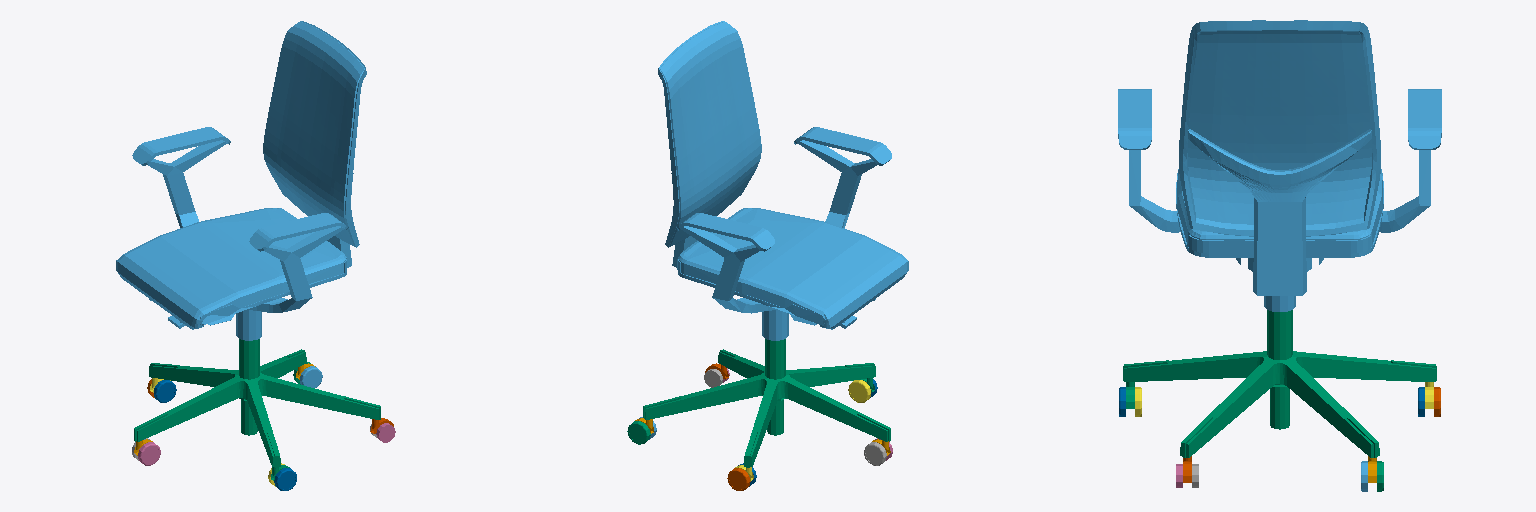
The robot description file, URDF, robot "partnet_2621666fa21488a4e922ceea1248b9b0":
<?xml version="1.0" encoding="utf-8"?>
<robot name="partnet_2621666fa21488a4e922ceea1248b9b0">
 <link name="base"/>
 <link name="link_0">
  <visual name="lever-42">
   <origin xyz="0 0.2095972358455948 -0.33022376647684676"/>
   <geometry>
    <mesh filename="textured_objs/original-9.obj"/>
   </geometry>
  </visual>
  <collision>
   <geometry>
    <mesh filename="cvx_objs/link_0.obj"/>
   </geometry>
  </collision>
 </link>
 <joint name="joint_0" type="revolute">
  <origin xyz="-0.00041881732650614 -0.2095972358455948 0.28426075927392724"/>
  <axis xyz="1 0 0"/>
  <child link="link_0"/>
  <parent link="link_16"/>
  <limit lower="0.0" upper="0.3581415625092364"/>
 </joint>
 <link name="link_1">
  <visual name="caster_yoke-35">
   <origin xyz="-0.5073895804539346 0 -0.21076041954606542"/>
   <geometry>
    <mesh filename="textured_objs/original-33.obj"/>
   </geometry>
  </visual>
  <collision>
   <geometry>
    <mesh filename="cvx_objs/link_1.obj"/>
   </geometry>
  </collision>
 </link>
 <joint name="joint_1" type="continuous">
  <origin xyz="0.5073895804539346 0 0.21076041954606542"/>
  <axis xyz="0 1 0"/>
  <child link="link_1"/>
  <parent link="link_17"/>
 </joint>
 <link name="link_2">
  <visual name="wheel-36">
   <origin xyz="0 0.7980015 -0.1769515"/>
   <geometry>
    <mesh filename="textured_objs/original-31.obj"/>
   </geometry>
  </visual>
  <collision>
   <geometry>
    <mesh filename="cvx_objs/link_2.obj"/>
   </geometry>
  </collision>
 </link>
 <joint name="joint_2" type="continuous">
  <origin xyz="-0.5073895804539346 -0.7980015 -0.03380891954606541"/>
  <axis xyz="1 0 0"/>
  <child link="link_2"/>
  <parent link="link_1"/>
 </joint>
 <link name="link_3">
  <visual name="wheel-37">
   <origin xyz="0 0.7980015 -0.1769515"/>
   <geometry>
    <mesh filename="textured_objs/original-32.obj"/>
   </geometry>
  </visual>
  <collision>
   <geometry>
    <mesh filename="cvx_objs/link_3.obj"/>
   </geometry>
  </collision>
 </link>
 <joint name="joint_3" type="continuous">
  <origin xyz="-0.5073895804539346 -0.7980015 -0.03380891954606541"/>
  <axis xyz="1 0 0"/>
  <child link="link_3"/>
  <parent link="link_1"/>
 </joint>
 <link name="link_4">
  <visual name="caster_yoke-32">
   <origin xyz="-0.3138163979893218 0 0.38521350000000004"/>
   <geometry>
    <mesh filename="textured_objs/original-30.obj"/>
   </geometry>
  </visual>
  <collision>
   <geometry>
    <mesh filename="cvx_objs/link_4.obj"/>
   </geometry>
  </collision>
 </link>
 <joint name="joint_4" type="continuous">
  <origin xyz="0.3138163979893218 0 -0.38521350000000004"/>
  <axis xyz="0 1 0"/>
  <child link="link_4"/>
  <parent link="link_17"/>
 </joint>
 <link name="link_5">
  <visual name="wheel-33">
   <origin xyz="0 0.7980015 0.419022"/>
   <geometry>
    <mesh filename="textured_objs/original-29.obj"/>
   </geometry>
  </visual>
  <collision>
   <geometry>
    <mesh filename="cvx_objs/link_5.obj"/>
   </geometry>
  </collision>
 </link>
 <joint name="joint_5" type="continuous">
  <origin xyz="-0.3138163979893218 -0.7980015 -0.033808499999999964"/>
  <axis xyz="-1 0 0"/>
  <child link="link_5"/>
  <parent link="link_4"/>
 </joint>
 <link name="link_6">
  <visual name="wheel-34">
   <origin xyz="0 0.7980015 0.419022"/>
   <geometry>
    <mesh filename="textured_objs/original-28.obj"/>
   </geometry>
  </visual>
  <collision>
   <geometry>
    <mesh filename="cvx_objs/link_6.obj"/>
   </geometry>
  </collision>
 </link>
 <joint name="joint_6" type="continuous">
  <origin xyz="-0.3138163979893218 -0.7980015 -0.033808499999999964"/>
  <axis xyz="-1 0 0"/>
  <child link="link_6"/>
  <parent link="link_4"/>
 </joint>
 <link name="link_7">
  <visual name="caster_yoke-29">
   <origin xyz="0.312821 0 0.3853705"/>
   <geometry>
    <mesh filename="textured_objs/original-27.obj"/>
   </geometry>
  </visual>
  <collision>
   <geometry>
    <mesh filename="cvx_objs/link_7.obj"/>
   </geometry>
  </collision>
 </link>
 <joint name="joint_7" type="continuous">
  <origin xyz="-0.312821 0 -0.3853705"/>
  <axis xyz="0 1 0"/>
  <child link="link_7"/>
  <parent link="link_17"/>
 </joint>
 <link name="link_8">
  <visual name="wheel-30">
   <origin xyz="0 0.7980015 0.4191795"/>
   <geometry>
    <mesh filename="textured_objs/original-26.obj"/>
   </geometry>
  </visual>
  <collision>
   <geometry>
    <mesh filename="cvx_objs/link_8.obj"/>
   </geometry>
  </collision>
 </link>
 <joint name="joint_8" type="continuous">
  <origin xyz="0.312821 -0.7980015 -0.03380899999999998"/>
  <axis xyz="-1 0 0"/>
  <child link="link_8"/>
  <parent link="link_7"/>
 </joint>
 <link name="link_9">
  <visual name="wheel-31">
   <origin xyz="0 0.7980015 0.4191795"/>
   <geometry>
    <mesh filename="textured_objs/original-25.obj"/>
   </geometry>
  </visual>
  <collision>
   <geometry>
    <mesh filename="cvx_objs/link_9.obj"/>
   </geometry>
  </collision>
 </link>
 <joint name="joint_9" type="continuous">
  <origin xyz="0.312821 -0.7980015 -0.03380899999999998"/>
  <axis xyz="-1 0 0"/>
  <child link="link_9"/>
  <parent link="link_7"/>
 </joint>
 <link name="link_10">
  <visual name="caster_yoke-26">
   <origin xyz="0.5065514999999999 0 -0.210603"/>
   <geometry>
    <mesh filename="textured_objs/original-24.obj"/>
   </geometry>
  </visual>
  <collision>
   <geometry>
    <mesh filename="cvx_objs/link_10.obj"/>
   </geometry>
  </collision>
 </link>
 <joint name="joint_10" type="continuous">
  <origin xyz="-0.5065514999999999 0 0.210603"/>
  <axis xyz="0 1 0"/>
  <child link="link_10"/>
  <parent link="link_17"/>
 </joint>
 <link name="link_11">
  <visual name="wheel-27">
   <origin xyz="0 0.7980011339793448 -0.1767945"/>
   <geometry>
    <mesh filename="textured_objs/original-23.obj"/>
   </geometry>
  </visual>
  <collision>
   <geometry>
    <mesh filename="cvx_objs/link_11.obj"/>
   </geometry>
  </collision>
 </link>
 <joint name="joint_11" type="continuous">
  <origin xyz="0.5065514999999999 -0.7980011339793448 -0.03380850000000002"/>
  <axis xyz="-1 0 0"/>
  <child link="link_11"/>
  <parent link="link_10"/>
 </joint>
 <link name="link_12">
  <visual name="wheel-28">
   <origin xyz="0 0.7980011339793448 -0.1767945"/>
   <geometry>
    <mesh filename="textured_objs/original-22.obj"/>
   </geometry>
  </visual>
  <collision>
   <geometry>
    <mesh filename="cvx_objs/link_12.obj"/>
   </geometry>
  </collision>
 </link>
 <joint name="joint_12" type="continuous">
  <origin xyz="0.5065514999999999 -0.7980011339793448 -0.03380850000000002"/>
  <axis xyz="-1 0 0"/>
  <child link="link_12"/>
  <parent link="link_10"/>
 </joint>
 <link name="link_13">
  <visual name="wheel-23">
   <origin xyz="0 0.788664212074202 -0.540282844889626"/>
   <geometry>
    <mesh filename="textured_objs/original-20.obj"/>
   </geometry>
  </visual>
  <collision>
   <geometry>
    <mesh filename="cvx_objs/link_13.obj"/>
   </geometry>
  </collision>
 </link>
 <joint name="joint_13" type="continuous">
  <origin xyz="-0.0002616099016787437 -0.788664212074202 -0.03875462566379584"/>
  <axis xyz="1 0 0"/>
  <child link="link_13"/>
  <parent link="link_15"/>
 </joint>
 <link name="link_14">
  <visual name="wheel-24">
   <origin xyz="0 0.7980014203437283 -0.5452290000000001"/>
   <geometry>
    <mesh filename="textured_objs/original-19.obj"/>
   </geometry>
  </visual>
  <collision>
   <geometry>
    <mesh filename="cvx_objs/link_14.obj"/>
   </geometry>
  </collision>
 </link>
 <joint name="joint_14" type="continuous">
  <origin xyz="-0.0002616099016787437 -0.7980014203437283 -0.03380847055342173"/>
  <axis xyz="1 0 0"/>
  <child link="link_14"/>
  <parent link="link_15"/>
 </joint>
 <link name="link_15">
  <visual name="caster_yoke-25">
   <origin xyz="-0.0002616099016787437 0 -0.5790374705534218"/>
   <geometry>
    <mesh filename="textured_objs/original-21.obj"/>
   </geometry>
  </visual>
  <collision>
   <geometry>
    <mesh filename="cvx_objs/link_15.obj"/>
   </geometry>
  </collision>
 </link>
 <joint name="joint_15" type="continuous">
  <origin xyz="0.0002616099016787437 0 0.5790374705534218"/>
  <axis xyz="0 1 0"/>
  <child link="link_15"/>
  <parent link="link_17"/>
 </joint>
 <link name="link_16">
  <visual name="back_support-57">
   <origin xyz="-0.00041881732650614 0 -0.04596300720291952"/>
   <geometry>
    <mesh filename="textured_objs/new-11.obj"/>
   </geometry>
  </visual>
  <visual name="back_connector-58">
   <origin xyz="-0.00041881732650614 0 -0.04596300720291952"/>
   <geometry>
    <mesh filename="textured_objs/new-10.obj"/>
   </geometry>
  </visual>
  <visual name="back_soft_surface-62">
   <origin xyz="-0.00041881732650614 0 -0.04596300720291952"/>
   <geometry>
    <mesh filename="textured_objs/original-14.obj"/>
   </geometry>
  </visual>
  <visual name="back_holistic_frame-61">
   <origin xyz="-0.00041881732650614 0 -0.04596300720291952"/>
   <geometry>
    <mesh filename="textured_objs/original-15.obj"/>
   </geometry>
  </visual>
  <visual name="arm_holistic_frame-55">
   <origin xyz="-0.00041881732650614 0 -0.04596300720291952"/>
   <geometry>
    <mesh filename="textured_objs/new-9.obj"/>
   </geometry>
  </visual>
  <visual name="arm_holistic_frame-55">
   <origin xyz="-0.00041881732650614 0 -0.04596300720291952"/>
   <geometry>
    <mesh filename="textured_objs/original-4.obj"/>
   </geometry>
  </visual>
  <visual name="arm_connector-63">
   <origin xyz="-0.00041881732650614 0 -0.04596300720291952"/>
   <geometry>
    <mesh filename="textured_objs/new-8.obj"/>
   </geometry>
  </visual>
  <visual name="arm_holistic_frame-54">
   <origin xyz="-0.00041881732650614 0 -0.04596300720291952"/>
   <geometry>
    <mesh filename="textured_objs/new-7.obj"/>
   </geometry>
  </visual>
  <visual name="arm_holistic_frame-54">
   <origin xyz="-0.00041881732650614 0 -0.04596300720291952"/>
   <geometry>
    <mesh filename="textured_objs/original-2.obj"/>
   </geometry>
  </visual>
  <visual name="arm_connector-66">
   <origin xyz="-0.00041881732650614 0 -0.04596300720291952"/>
   <geometry>
    <mesh filename="textured_objs/new-6.obj"/>
   </geometry>
  </visual>
  <visual name="seat_support-44">
   <origin xyz="-0.00041881732650614 0 -0.04596300720291952"/>
   <geometry>
    <mesh filename="textured_objs/original-11.obj"/>
   </geometry>
  </visual>
  <visual name="seat_soft_surface-50">
   <origin xyz="-0.00041881732650614 0 -0.04596300720291952"/>
   <geometry>
    <mesh filename="textured_objs/original-34.obj"/>
   </geometry>
  </visual>
  <visual name="seat_support-51">
   <origin xyz="-0.00041881732650614 0 -0.04596300720291952"/>
   <geometry>
    <mesh filename="textured_objs/original-35.obj"/>
   </geometry>
  </visual>
  <visual name="seat_support-64">
   <origin xyz="-0.00041881732650614 0 -0.04596300720291952"/>
   <geometry>
    <mesh filename="textured_objs/original-10.obj"/>
   </geometry>
  </visual>
  <visual name="central_support-7">
   <origin xyz="-0.00041881732650614 0 -0.04596300720291952"/>
   <geometry>
    <mesh filename="textured_objs/original-6.obj"/>
   </geometry>
  </visual>
  <visual name="mounting_plate-41">
   <origin xyz="-0.00041881732650614 0 -0.04596300720291952"/>
   <geometry>
    <mesh filename="textured_objs/original-18.obj"/>
   </geometry>
  </visual>
  <visual name="mounting_plate-41">
   <origin xyz="-0.00041881732650614 0 -0.04596300720291952"/>
   <geometry>
    <mesh filename="textured_objs/original-17.obj"/>
   </geometry>
  </visual>
  <visual name="mounting_plate-41">
   <origin xyz="-0.00041881732650614 0 -0.04596300720291952"/>
   <geometry>
    <mesh filename="textured_objs/original-16.obj"/>
   </geometry>
  </visual>
  <collision>
   <geometry>
    <mesh filename="cvx_objs/link_16.obj"/>
   </geometry>
  </collision>
 </link>
 <joint name="joint_16" type="continuous">
  <origin xyz="0.0 0 0.0"/>
  <axis xyz="0 -1 0"/>
  <child link="link_16"/>
  <parent link="link_16_helper"/>
 </joint>
 <link name="link_17">
  <visual name="central_support-8">
   <origin xyz="0 0 0"/>
   <geometry>
    <mesh filename="textured_objs/new-5.obj"/>
   </geometry>
  </visual>
  <visual name="central_support-9">
   <origin xyz="0 0 0"/>
   <geometry>
    <mesh filename="textured_objs/original-7.obj"/>
   </geometry>
  </visual>
  <visual name="leg-11">
   <origin xyz="0 0 0"/>
   <geometry>
    <mesh filename="textured_objs/new-4.obj"/>
   </geometry>
  </visual>
  <visual name="leg-12">
   <origin xyz="0 0 0"/>
   <geometry>
    <mesh filename="textured_objs/new-0.obj"/>
   </geometry>
  </visual>
  <visual name="leg-13">
   <origin xyz="0 0 0"/>
   <geometry>
    <mesh filename="textured_objs/new-1.obj"/>
   </geometry>
  </visual>
  <visual name="leg-14">
   <origin xyz="0 0 0"/>
   <geometry>
    <mesh filename="textured_objs/new-2.obj"/>
   </geometry>
  </visual>
  <visual name="leg-15">
   <origin xyz="0 0 0"/>
   <geometry>
    <mesh filename="textured_objs/new-3.obj"/>
   </geometry>
  </visual>
  <collision>
   <geometry>
    <mesh filename="cvx_objs/link_17.obj"/>
   </geometry>
  </collision>
 </link>
 <joint name="joint_17" type="fixed">
  <origin rpy="1.570796326794897 0 -1.570796326794897" xyz="0 0 0"/>
  <child link="link_17"/>
  <parent link="base"/>
 </joint>
 <link name="link_16_helper"/>
 <joint name="joint_18" type="prismatic">
  <origin xyz="0.00041881732650614 0 0.04596300720291952"/>
  <axis xyz="0 -1 0"/>
  <child link="link_16_helper"/>
  <parent link="link_17"/>
  <limit lower="0" upper="0.14400000000000013"/>
 </joint>
</robot>

--- What the picture shows (computed from the rendered views, not written in the file) ---
3 views of the same robot in one strip: view 1: azimuth 30°, elevation 25°; view 2: azimuth 150°, elevation 25°; view 3: azimuth 270°, elevation 25° (orthographic).
Robot: partnet_2621666fa21488a4e922ceea1248b9b0 — 20 links, 19 joints (1 revolute, 16 continuous, 1 prismatic, 1 fixed); root link base; default pose: every joint at zero.
Links seen in each view (by area): view 1: link_16, link_17; view 2: link_16, link_17; view 3: link_16, link_17.
Boxes of the visible links, box(x1,y1,x2,y2) form: link_16: box(116, 21, 366, 340); link_17: box(134, 339, 380, 467); link_16: box(658, 21, 908, 340); link_17: box(643, 339, 890, 467); link_16: box(1118, 20, 1441, 311); link_17: box(1123, 310, 1436, 457).
Size in the robot's own frame: 1.07 by 1.1 by 1.74 metres.
41 mesh visuals loaded from 41 distinct referenced files (41 OBJ).
